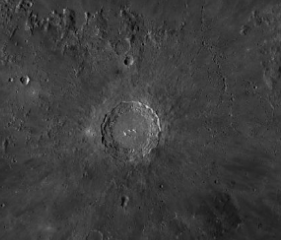crater: (81, 88, 188, 182), (13, 64, 45, 97), (115, 49, 147, 75)
